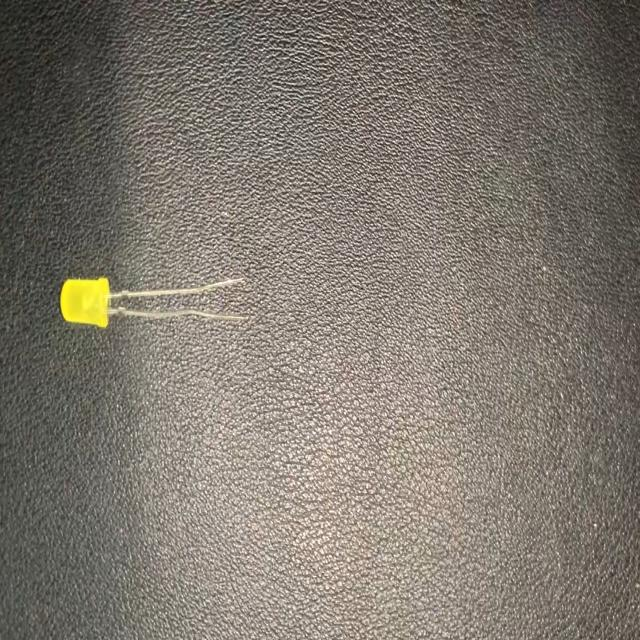LED: (58, 273, 248, 328)
